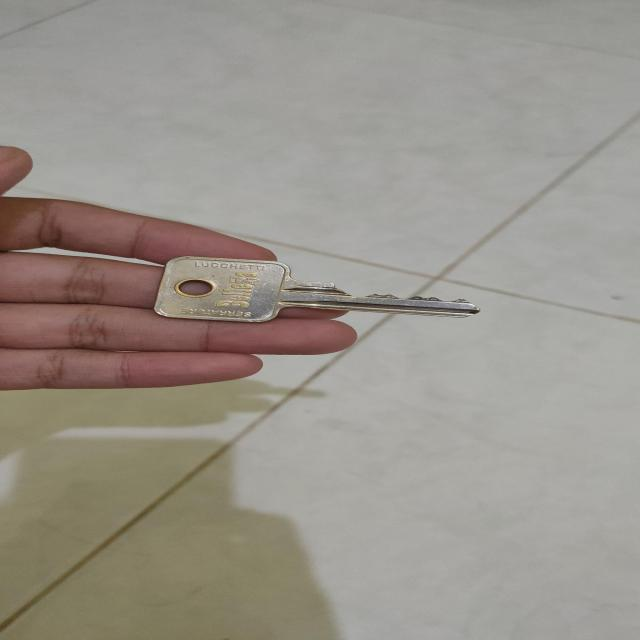kunci_kos: (141, 242, 487, 333)
